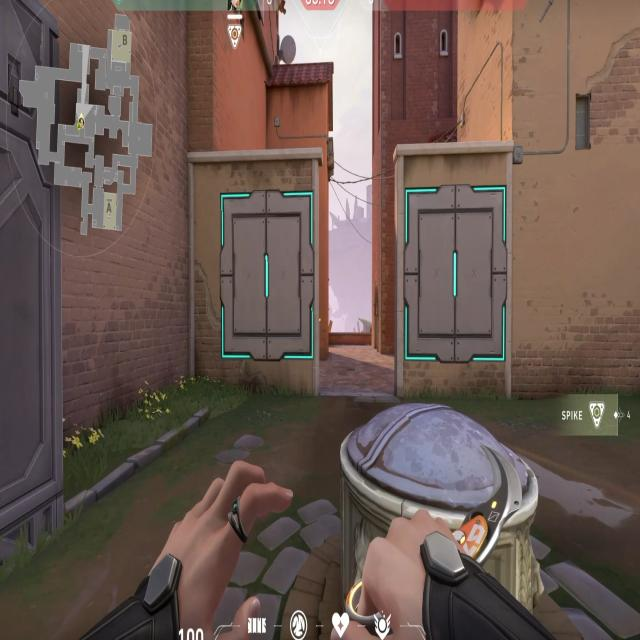Mid_Wall: (406, 190, 508, 364), (221, 192, 315, 360)
